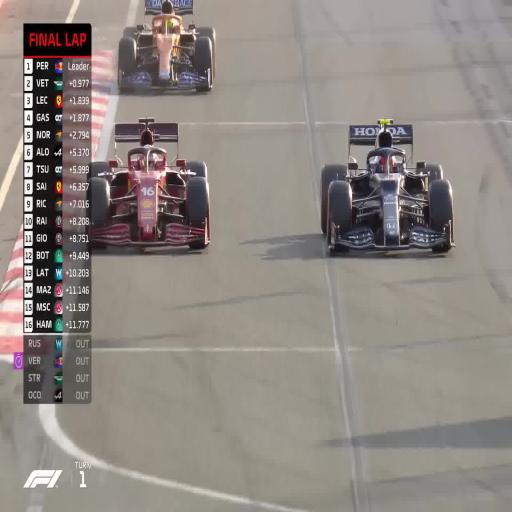f1_car: (321, 119, 454, 252), (88, 118, 210, 248), (118, 0, 216, 92)
